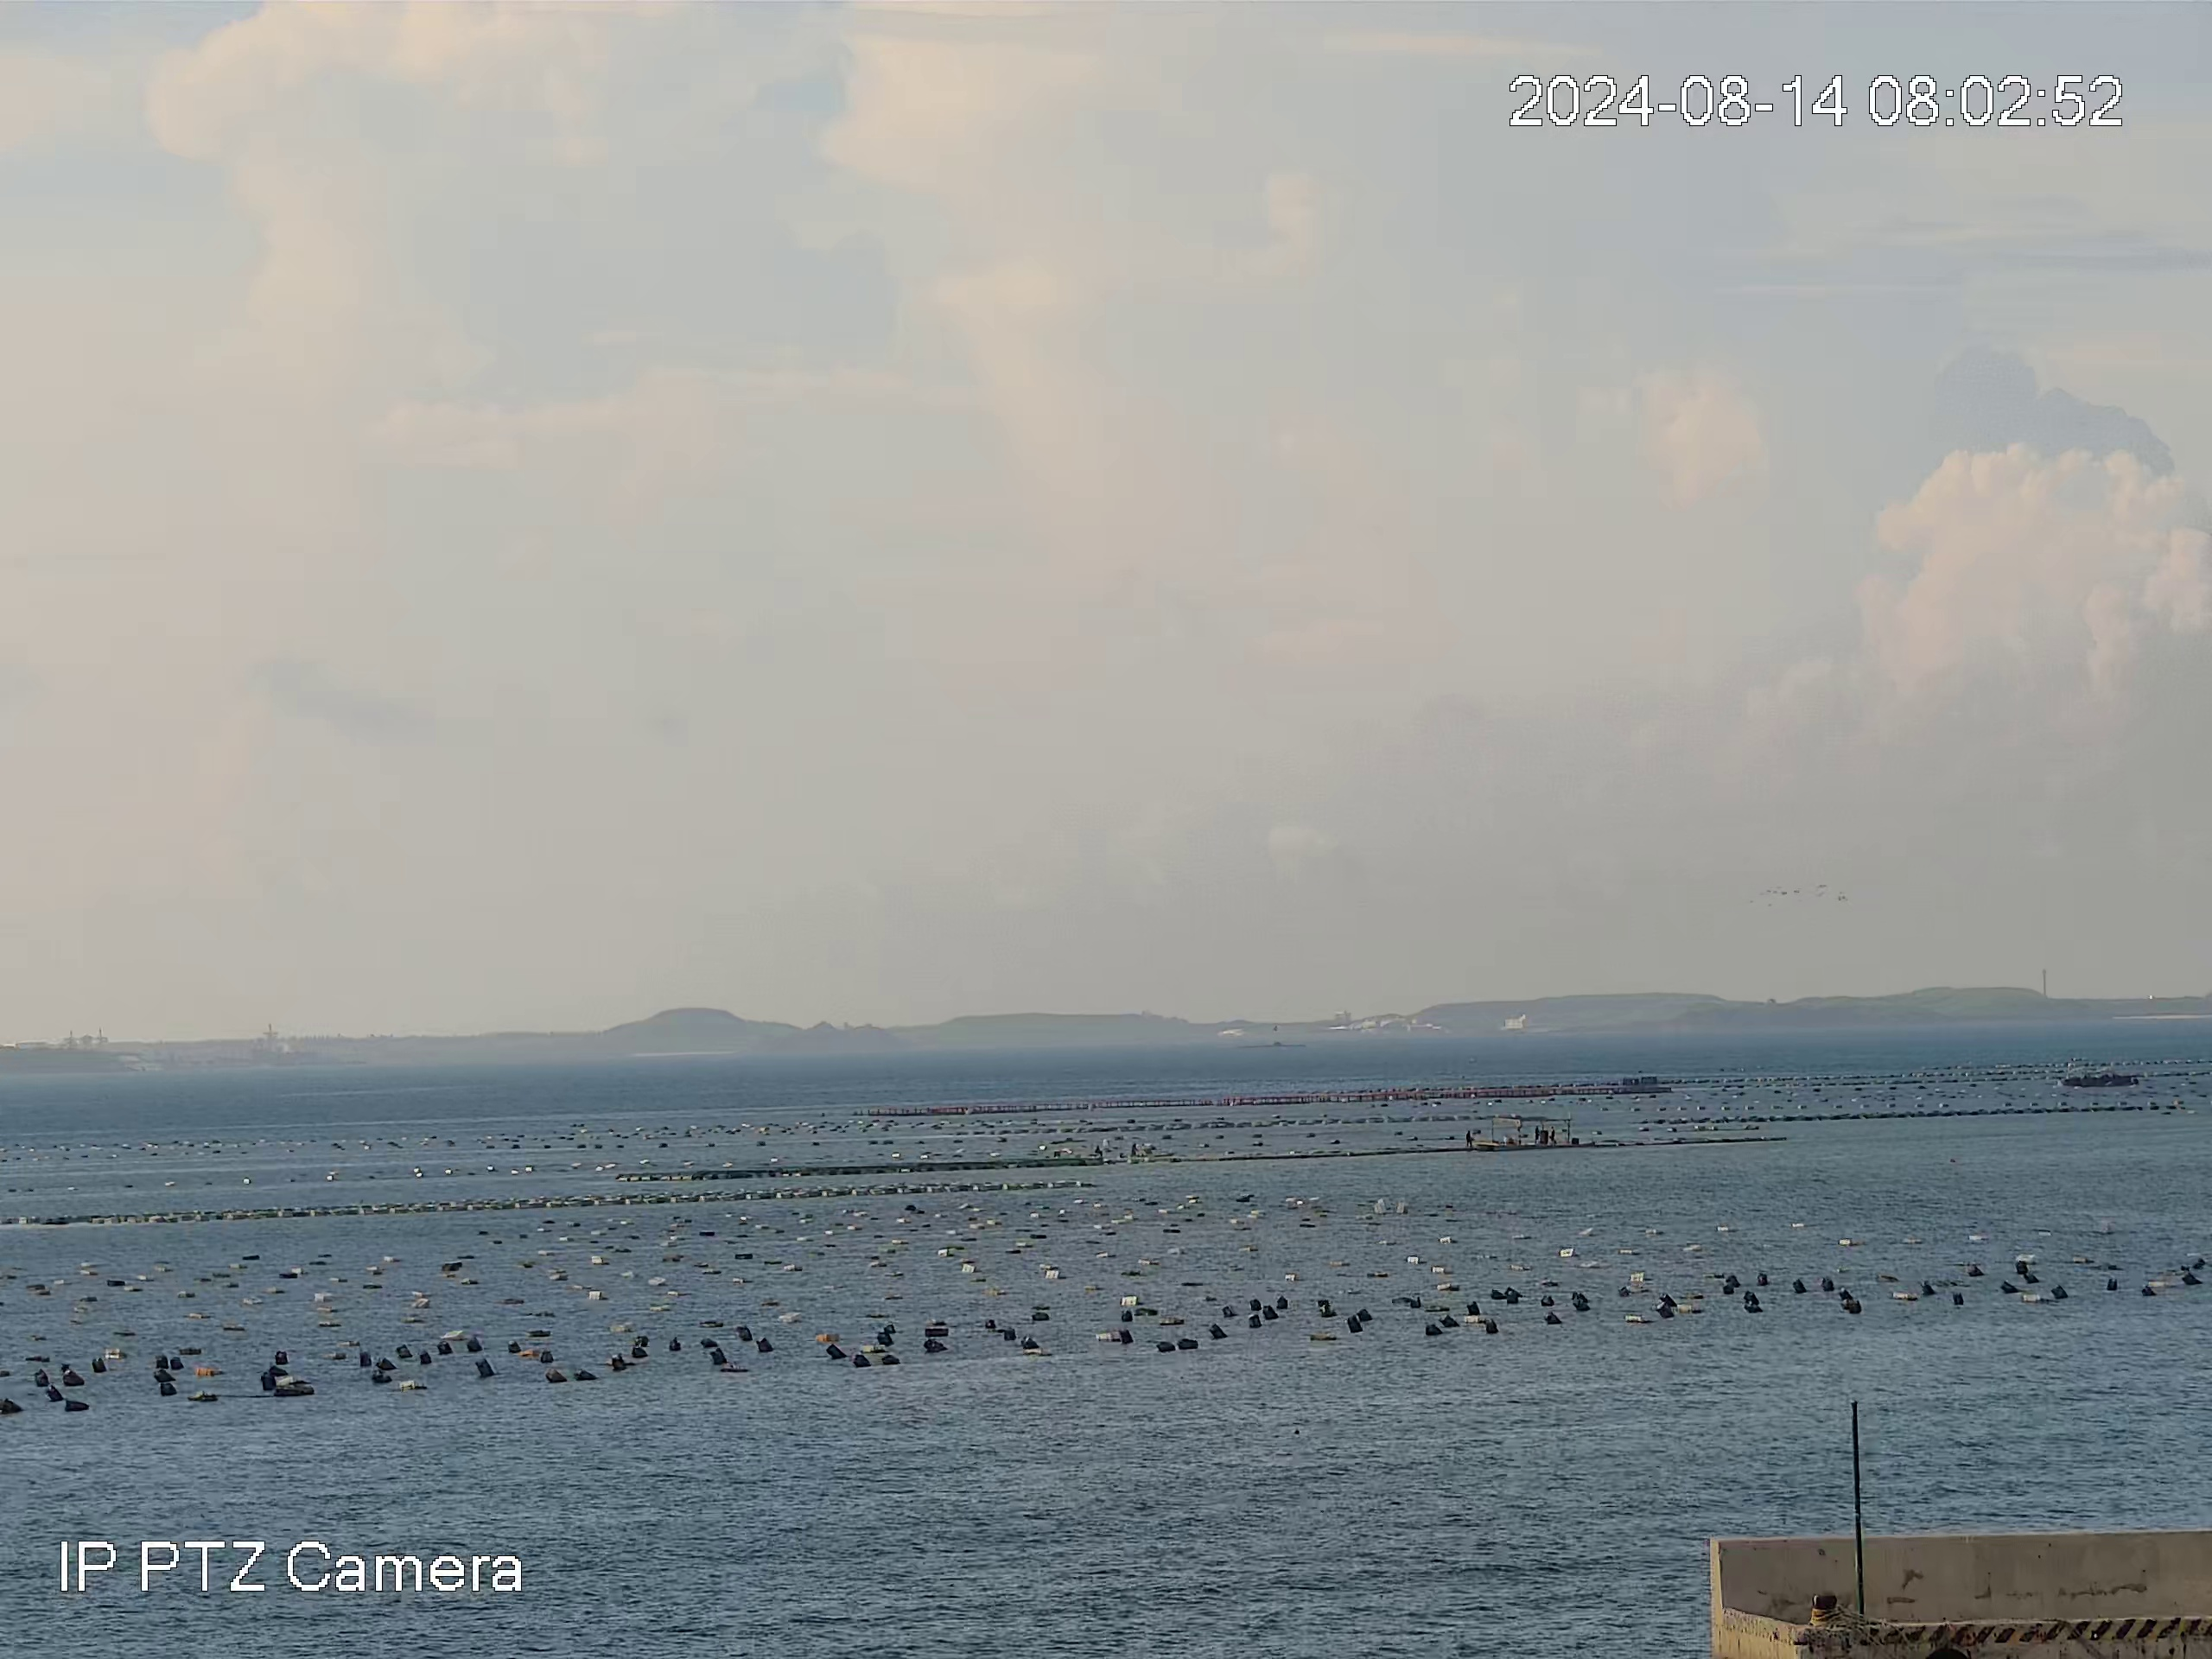boat: (1482, 1112, 1581, 1152), (2057, 1063, 2142, 1089)
